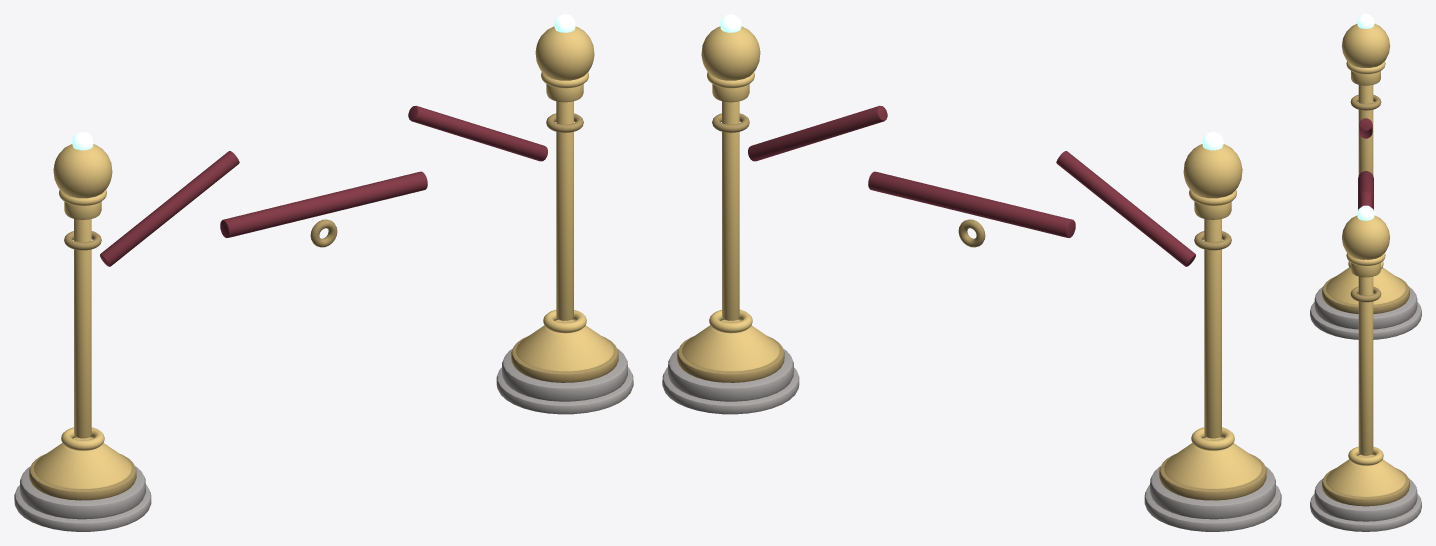
Rendered from hp_room_museum_rope_stanchion.glb.
The picture shows the model from 3 angles, left to right: view 1: azimuth 30°, elevation 25°; view 2: azimuth 150°, elevation 25°; view 3: azimuth 270°, elevation 25°; orthographic projection. The views are drawn at different scales.
Visible parts, largest first — view 1: room_museum_rope_stanchion; view 2: room_museum_rope_stanchion; view 3: room_museum_rope_stanchion.
Boxes of the visible parts, x1,y1,x2,y2 form: room_museum_rope_stanchion: [14, 14, 633, 531]; room_museum_rope_stanchion: [662, 14, 1281, 531]; room_museum_rope_stanchion: [1310, 14, 1421, 531].
Size of the model in its own units: 1.87 by 1.11 by 0.37.
